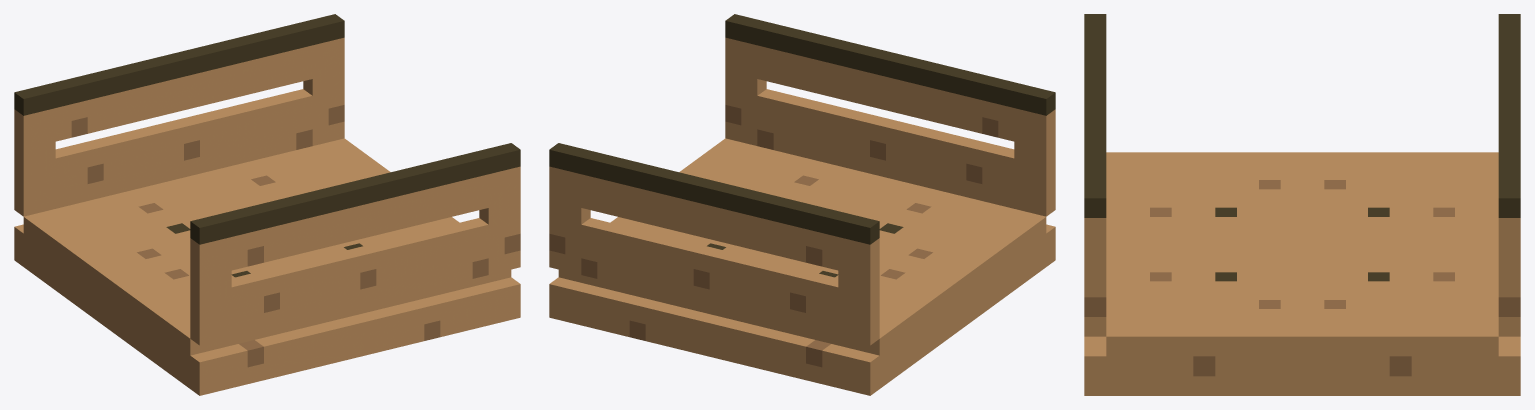
Rendered from room_1010.obj.
The picture shows the model from 3 angles, left to right: view 1: azimuth 30°, elevation 25°; view 2: azimuth 150°, elevation 25°; view 3: azimuth 270°, elevation 25°; orthographic projection. The views are drawn at different scales.
Parts seen in each view (by area): view 1: room_1010; view 2: room_1010; view 3: room_1010.
Boxes of the visible parts, x1,y1,x2,y2 form: room_1010: [14, 14, 520, 395]; room_1010: [549, 14, 1055, 395]; room_1010: [1084, 14, 1520, 395].
Bounding box in the file's own units: 20 × 10 × 20.
1 material, 1 textured.
